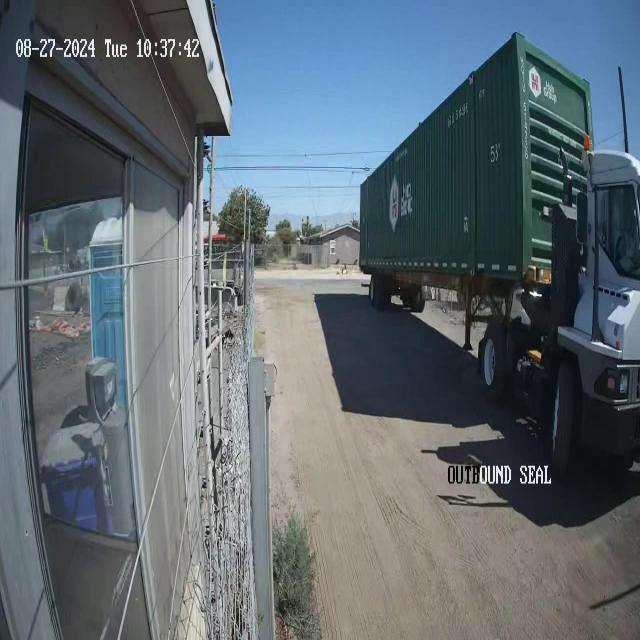TRUCK_IN: (358, 30, 640, 494)
